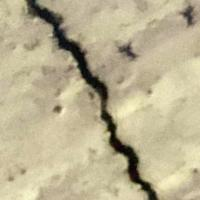crack: (27, 1, 162, 199)
